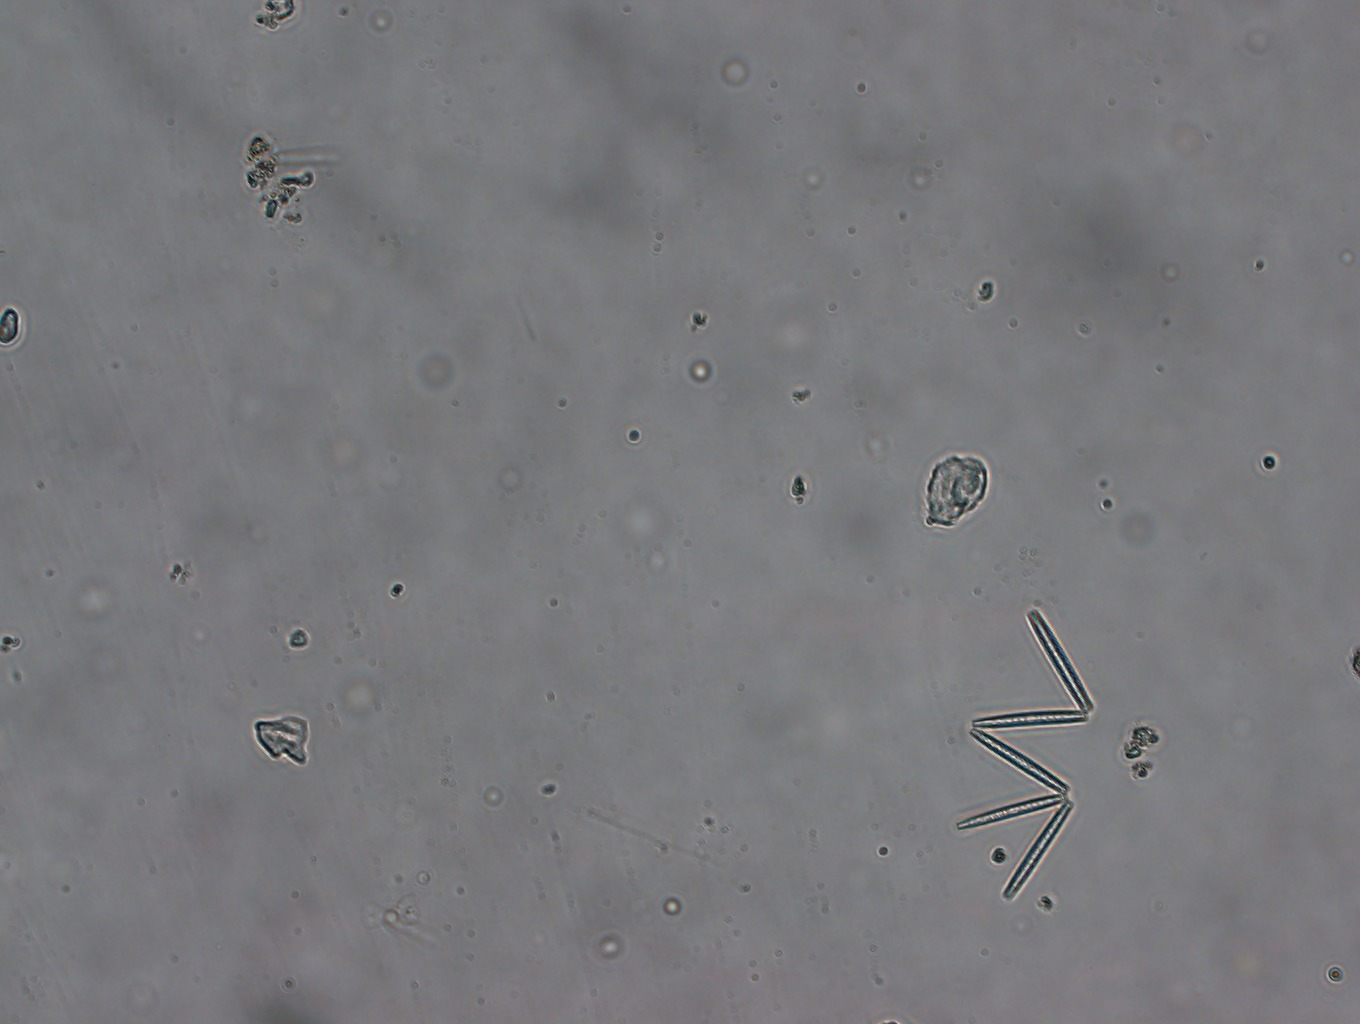thalassionema nitzschioides: (951, 599, 1098, 907)
